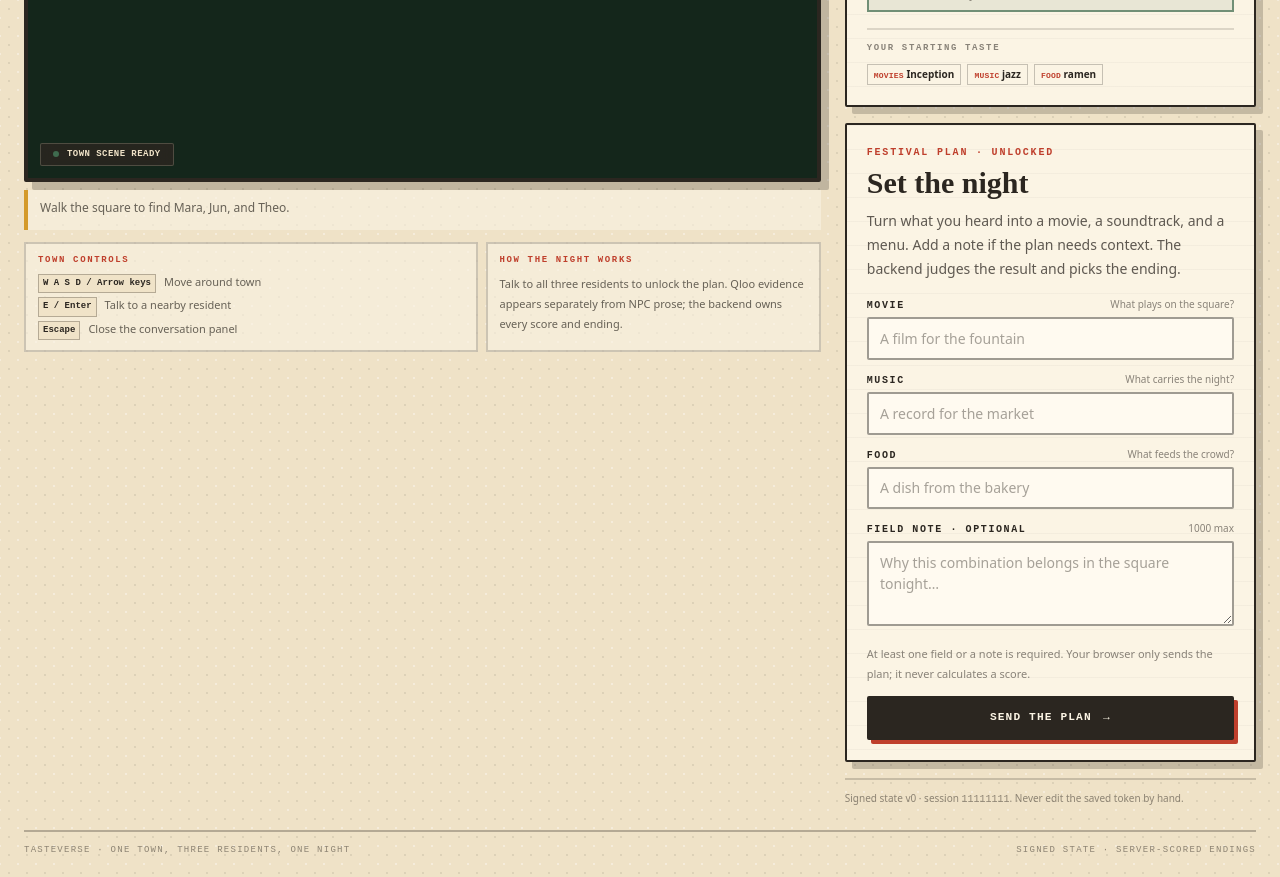
plan evaluation and endings › renders an empty-evidence ending conservatively without invented evidence
(page scrolled)
Type "A night of surprises and no fixed bill." into the text box labelled "Field note · optional 1000 max" at (1050, 584), box [867,541,1234,626]
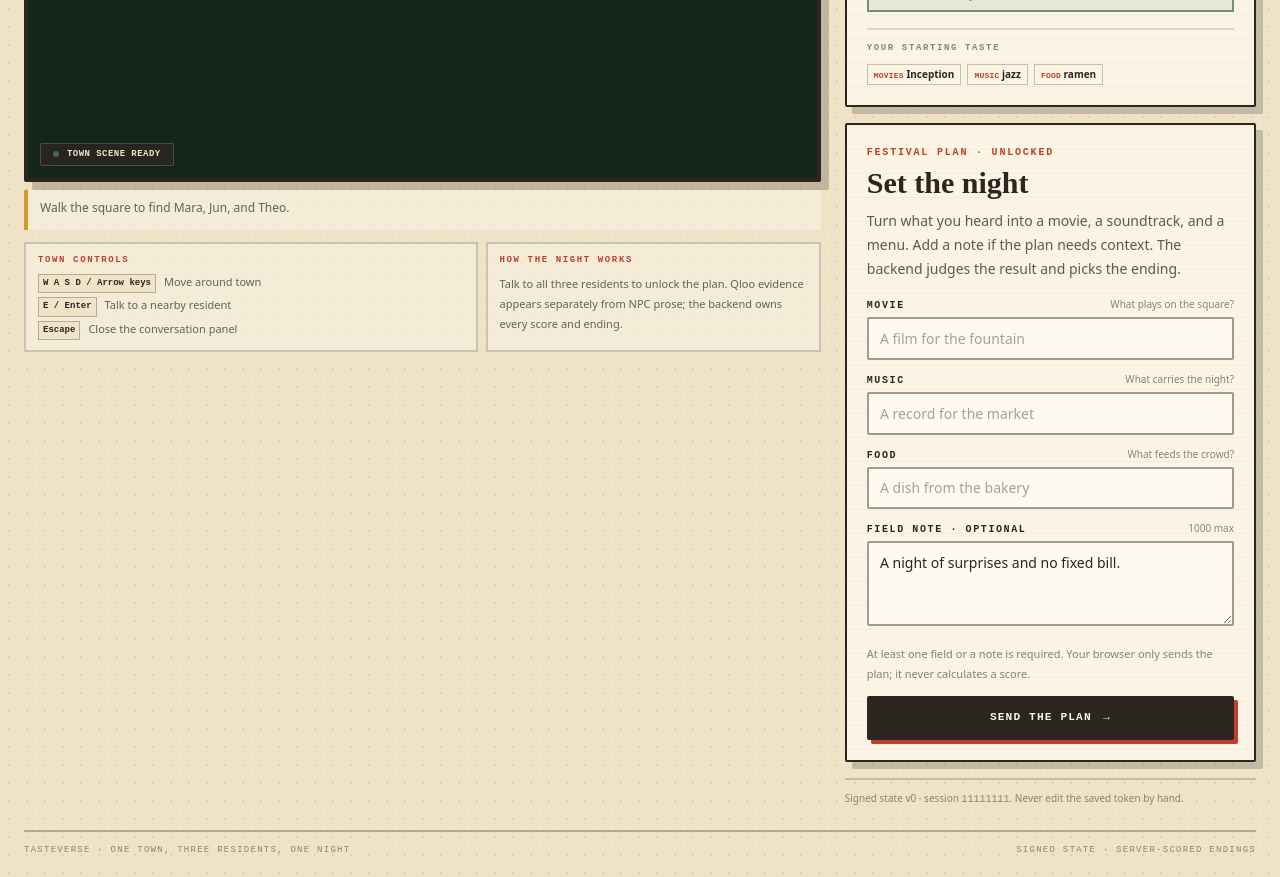
Click the button "Send the plan →" at (1050, 718), box [867,696,1234,740]
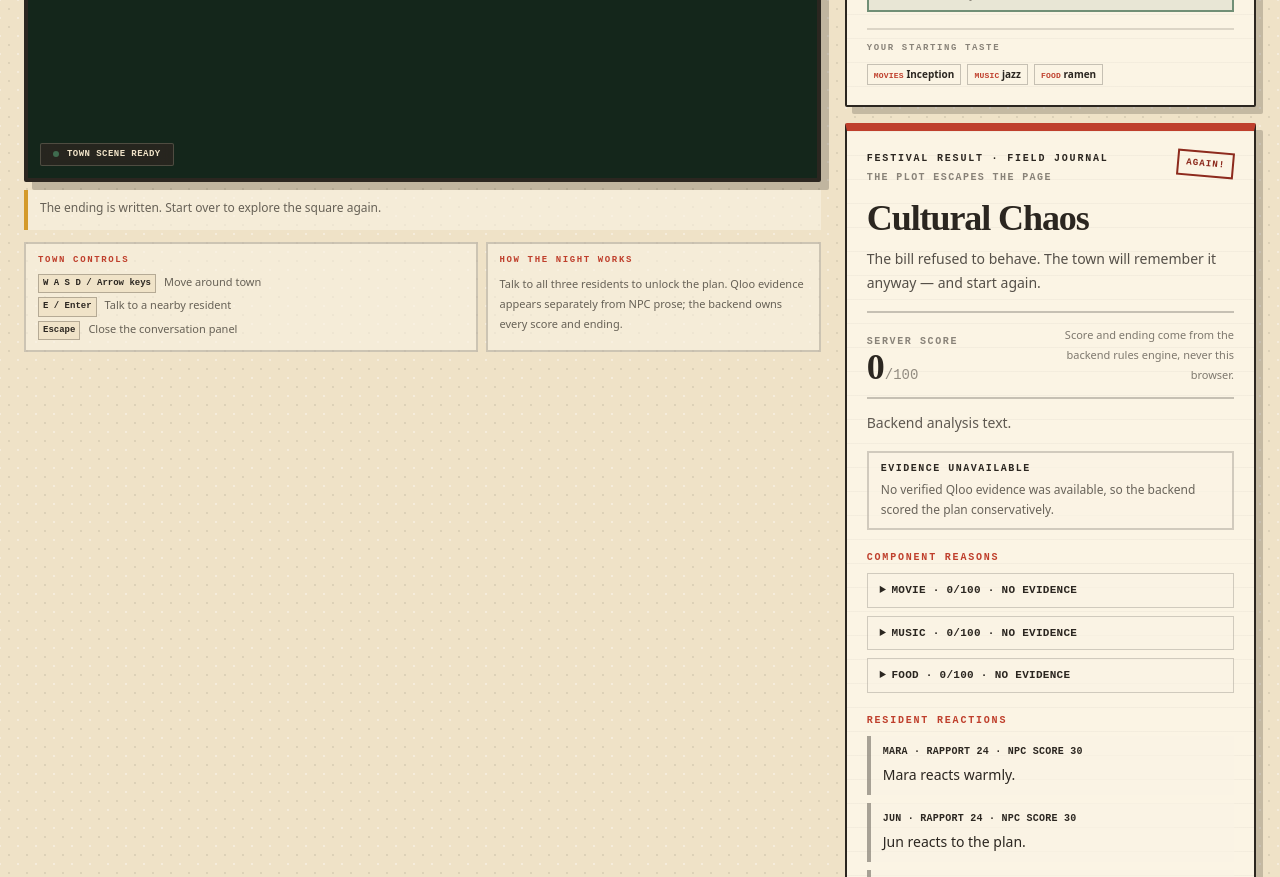
Expected: the heading "Cultural Chaos" is shown, [867,198,1089,238]
Expected: the text "Evidence unavailable" is shown, [881,463,1031,474]
Expected: the element with test id "ending-score" reads "0/100", [867,347,918,387]
